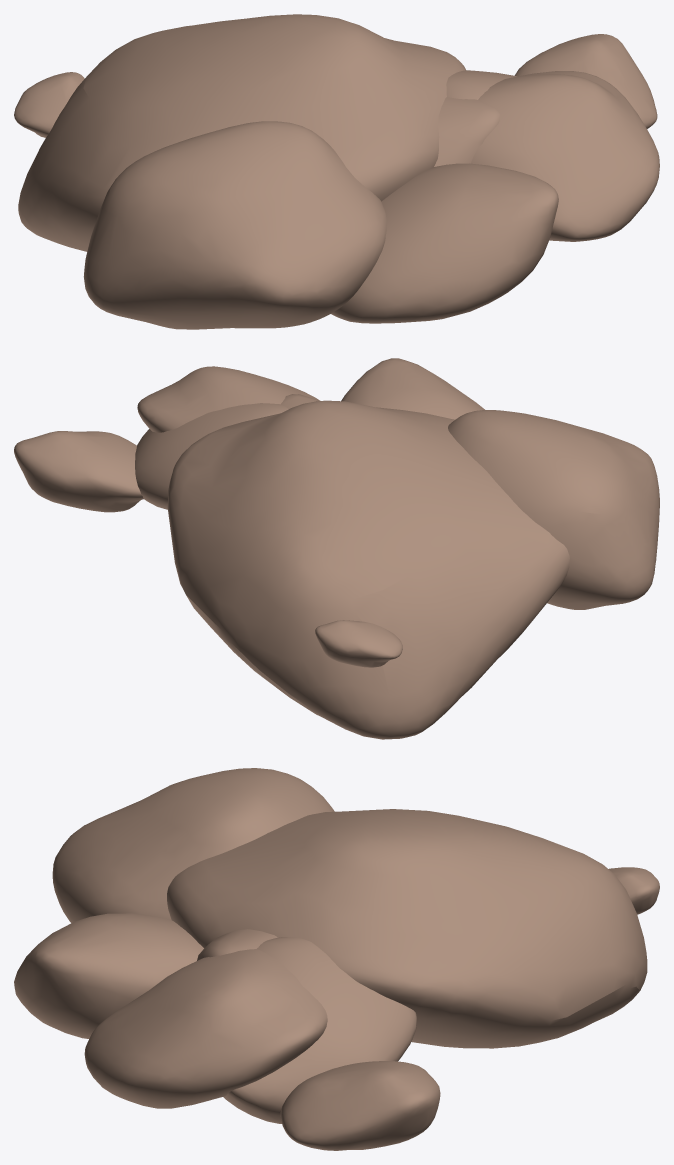
Rendered from m_prop_stone.fbx.
The picture shows the model from 3 angles, top to bottom: view 1: azimuth 30°, elevation 25°; view 2: azimuth 150°, elevation 25°; view 3: azimuth 270°, elevation 25°; orthographic projection. The views are drawn at different scales.
Parts seen in each view (by area): view 1: Roundcube, Roundcube.007, Roundcube.003; view 2: Roundcube, Roundcube.007; view 3: Roundcube, Roundcube.007, Roundcube.003.
Boxes of the visible parts, left/top/right/bottom form: Roundcube: left=18, top=14, right=558, bottom=323; Roundcube.007: left=14, top=34, right=659, bottom=329; Roundcube.003: left=434, top=97, right=500, bottom=166; Roundcube: left=135, top=358, right=569, bottom=739; Roundcube.007: left=14, top=366, right=659, bottom=667; Roundcube: left=14, top=809, right=647, bottom=1123; Roundcube.007: left=52, top=768, right=659, bottom=1150; Roundcube.003: left=197, top=929, right=277, bottom=960.
Bounding box in the file's own units: 0.6128 × 0.2234 × 0.5315.
